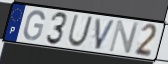2: (133, 23, 158, 58)
3: (46, 11, 68, 46)
G: (22, 9, 46, 42)
N: (107, 19, 141, 55)
U: (66, 14, 95, 48)
V: (94, 17, 117, 51)
